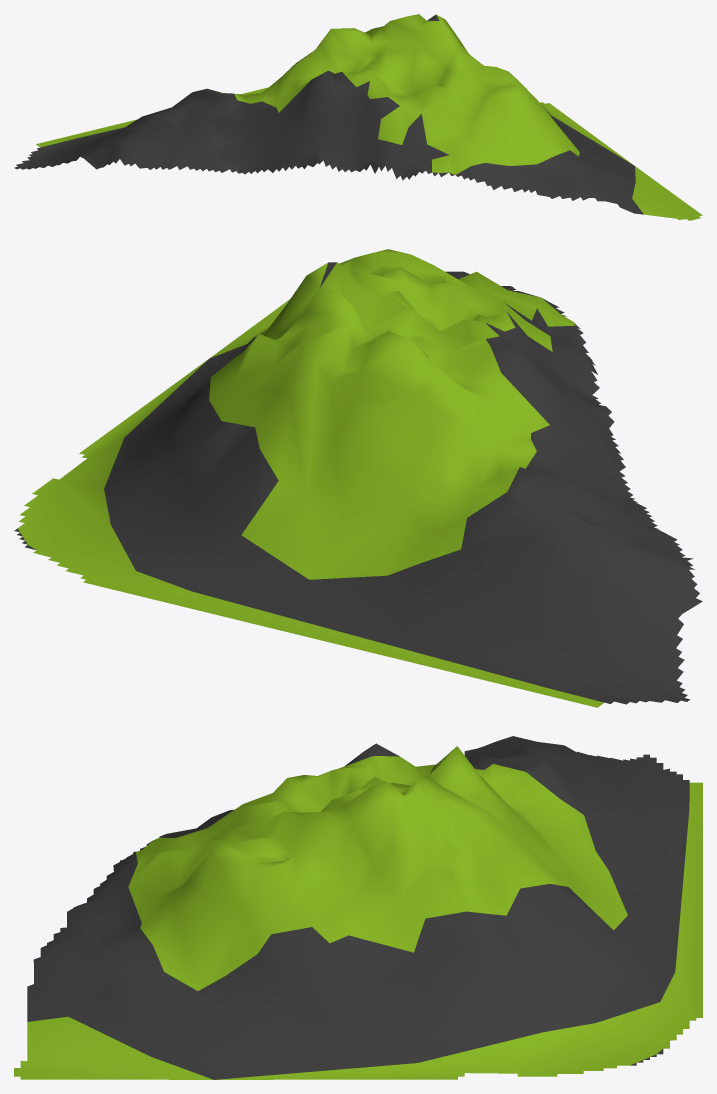
File: Cliff.fbx
The picture shows the model from 3 angles, top to bottom: view 1: azimuth 30°, elevation 25°; view 2: azimuth 150°, elevation 25°; view 3: azimuth 270°, elevation 25°; orthographic projection. The views are drawn at different scales.
Parts seen in each view (by area): view 1: Landscape; view 2: Landscape; view 3: Landscape.
Boxes of the visible parts, left/top/right/bottom form: Landscape: left=14, top=14, right=702, bottom=220; Landscape: left=14, top=249, right=702, bottom=707; Landscape: left=14, top=736, right=702, bottom=1079.
Size of the model in its own units: 183 by 52.96 by 164.
